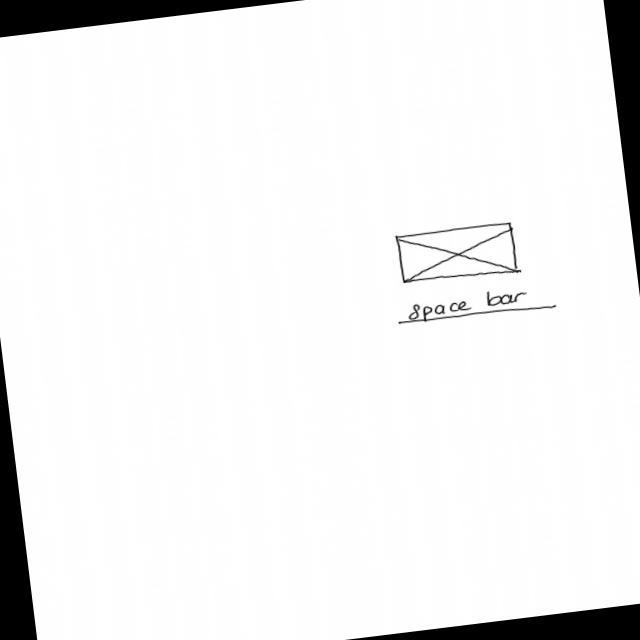image: (394, 220, 520, 288)
input: (396, 282, 558, 330)
